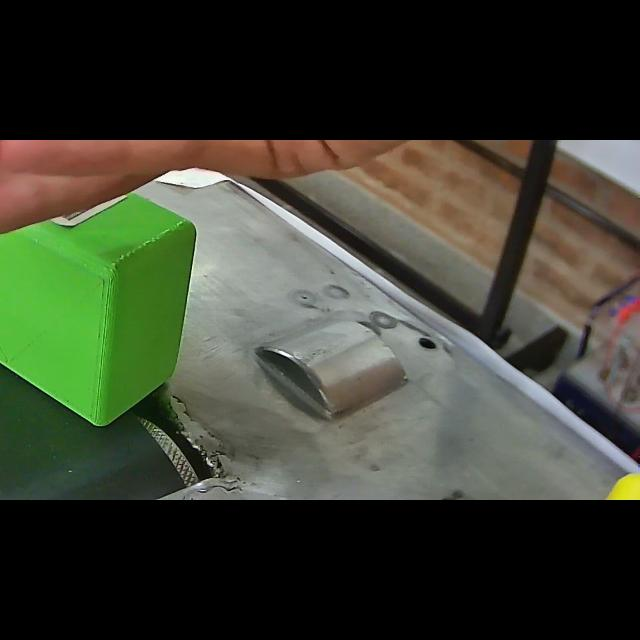greenBox: (0, 158, 200, 434)
redBox: (0, 140, 90, 270)
